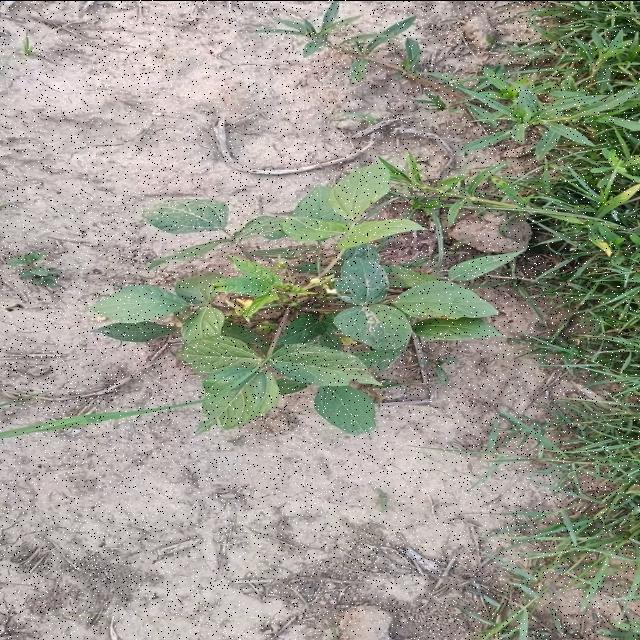plant: (90, 162, 514, 434)
weed: (2, 162, 513, 435)
